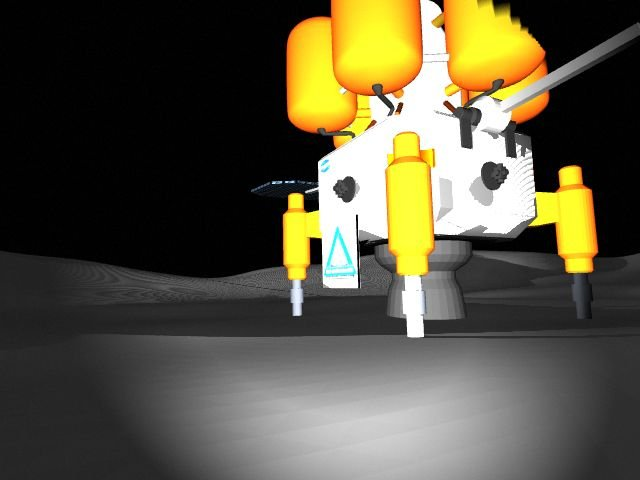basemarker: (321, 225, 358, 276)
